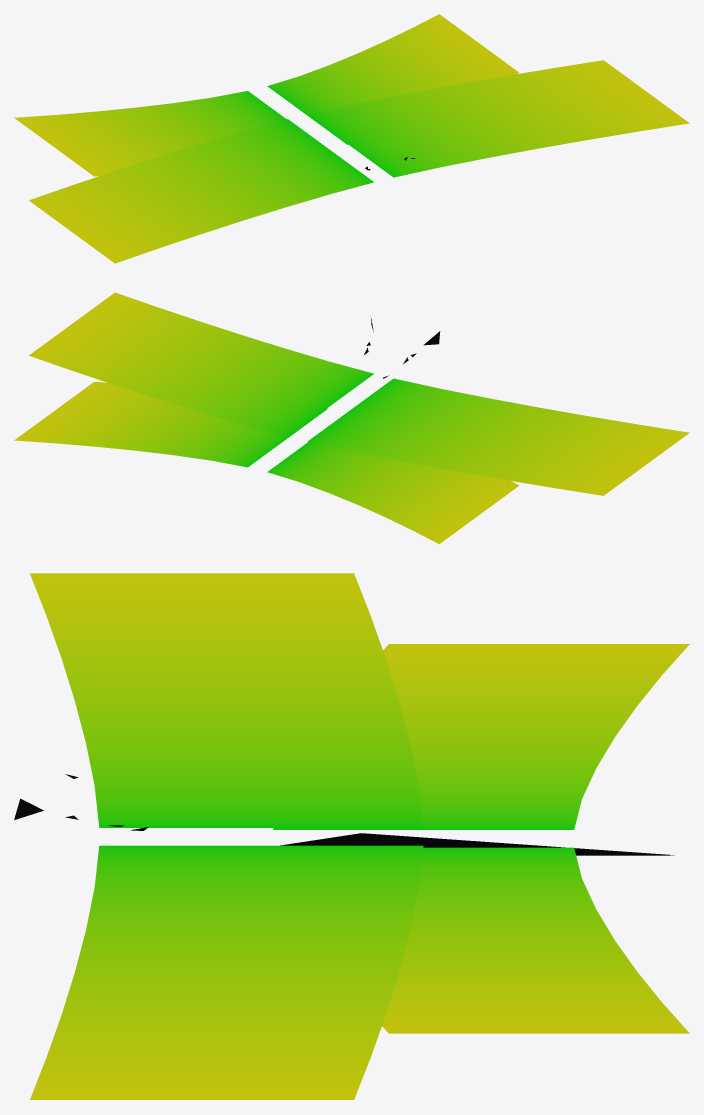
Rendered from butterfly.glb.
3 views of the same model, one above another, from view 1: azimuth 30°, elevation 25°; view 2: azimuth 150°, elevation 25°; view 3: azimuth 270°, elevation 25° (orthographic). The views are drawn at different scales.
Visible parts, largest first — view 1: lod0; view 2: lod0; view 3: lod0.
Boxes of the visible parts, <box> form: lod0: <box>14,14,689,263</box>; lod0: <box>14,292,689,544</box>; lod0: <box>14,573,689,1099</box>.
Size of what is drawn, in the model's own units: 0.0538 by 0.00446 by 0.0292.
